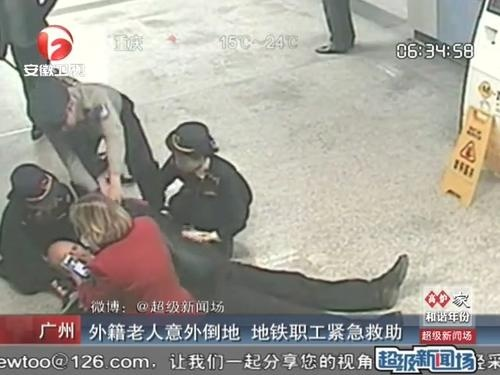falling: (29, 232, 417, 337)
